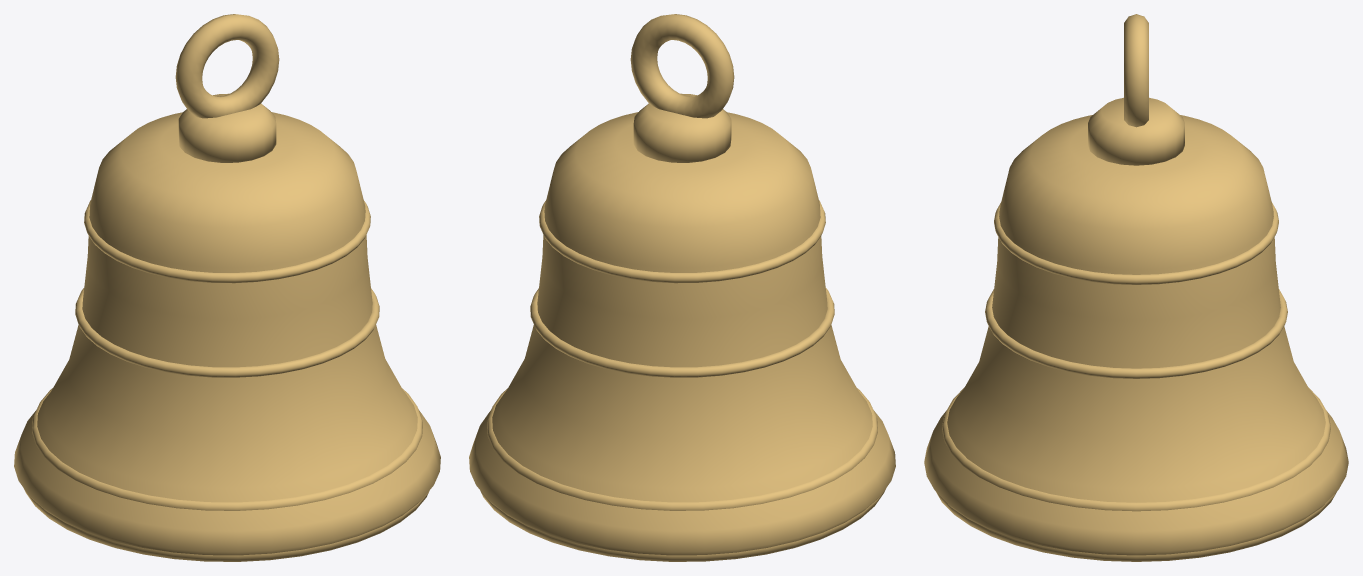
The model's file is ShipBell.fbx.
3 renders of one model, left to right at view 1: azimuth 30°, elevation 25°; view 2: azimuth 150°, elevation 25°; view 3: azimuth 270°, elevation 25°, orthographic.
Parts seen in each view (by area): view 1: ShipBell_Brass; view 2: ShipBell_Brass; view 3: ShipBell_Brass.
Boxes of the visible parts, left/top/right/bottom form: ShipBell_Brass: left=14, top=14, right=440, bottom=561; ShipBell_Brass: left=469, top=14, right=895, bottom=561; ShipBell_Brass: left=924, top=14, right=1348, bottom=561.
Size of the model in its own units: 1.92 by 2.29 by 1.92.
